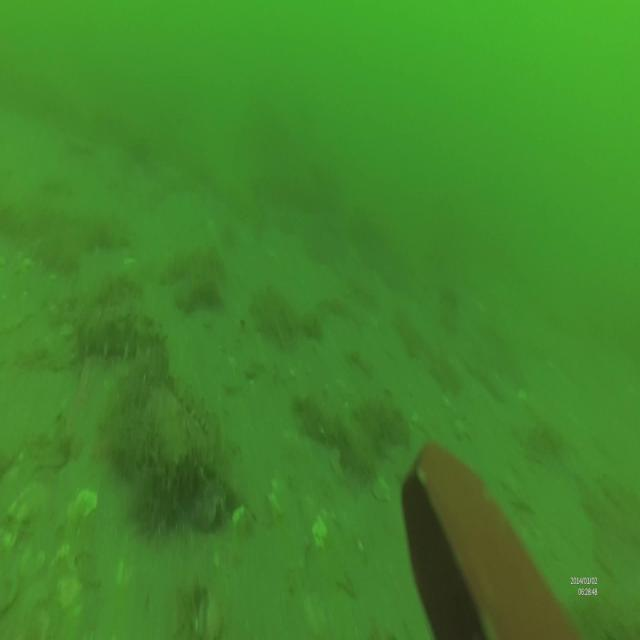holothurian: (79, 303, 163, 356), (170, 370, 226, 443)
